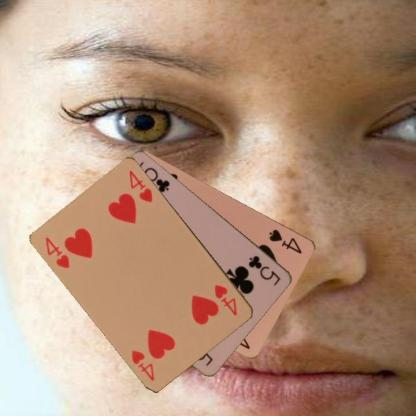4h: (43, 234, 72, 270), (212, 282, 239, 318)
4s: (266, 226, 304, 256)
5c: (246, 253, 282, 287)
